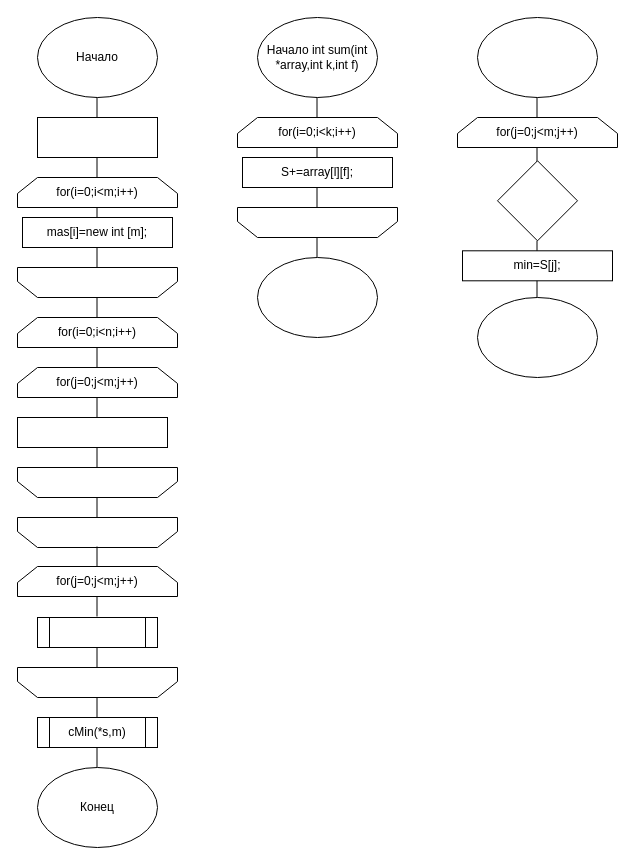
The diagram is 635 pixels wide and 865 high, and some of its shapes have lost their labels. The shapes that lost their labels are listed below. From the top down, each one's centre as x and y in pixels, then its label:
At point (537, 57): "Начало int cMin(int *S,int m);".
At point (97, 137): "int **mas=new int *[n]".
At point (537, 200): "if(S[j]<min)".
At point (317, 297): "Конец int sum(int *array,int k,int f)".
At point (537, 337): "Конец int cMin(int *S,int m);".
At point (92, 432): "Ввод массива mas[i][j]".
At point (97, 632): "sum(array,k,f)".
